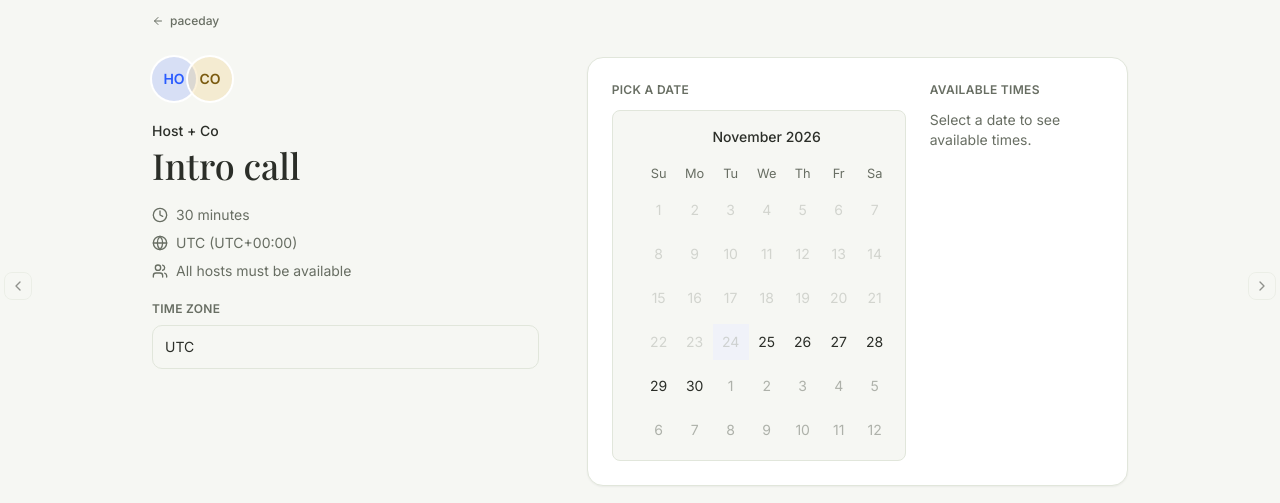
PAC-83 public booking › AC-11: a slot listing that fails at the network level shows 'can't reach' with a retry — never an empty list or 'no time available'
The image size is (1280, 503).
Click the button "25": (767, 342) [749,324,785,360]
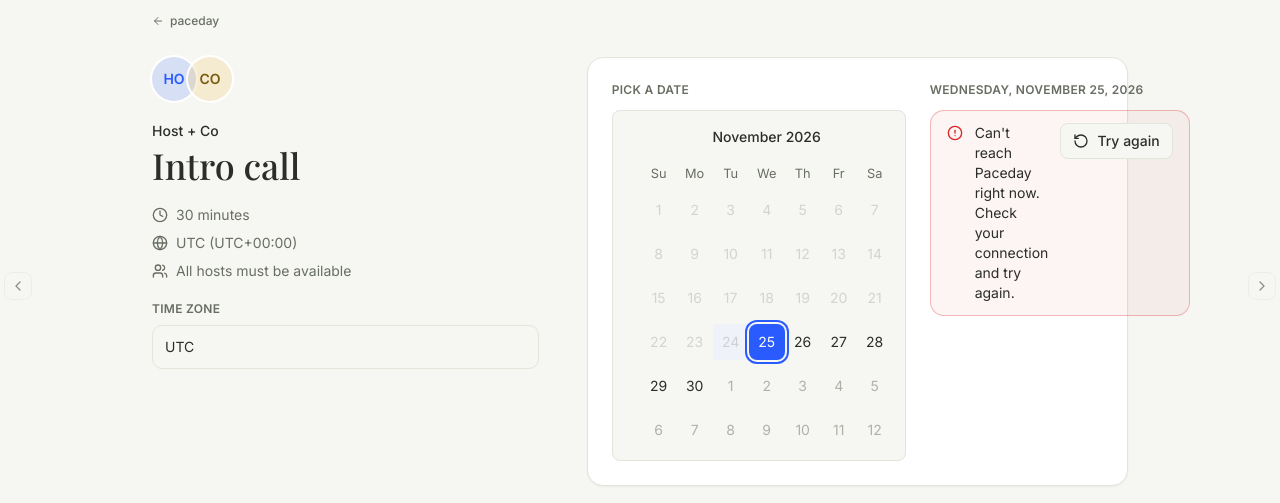
Expected: the button with test id "api-error-retry" is shown, [1060,123,1173,159]
